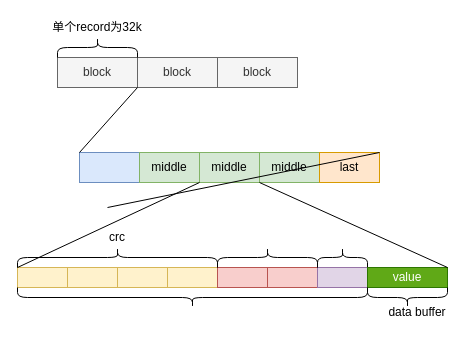
Image size: 466x344. Some labels were removed from this diagram. Each missing label, with the centre of its shape:
"full" goes at (109,167).
"length" goes at (267,257).
"recored header（7 byte）" goes at (192,297).
"type" goes at (342,257).
